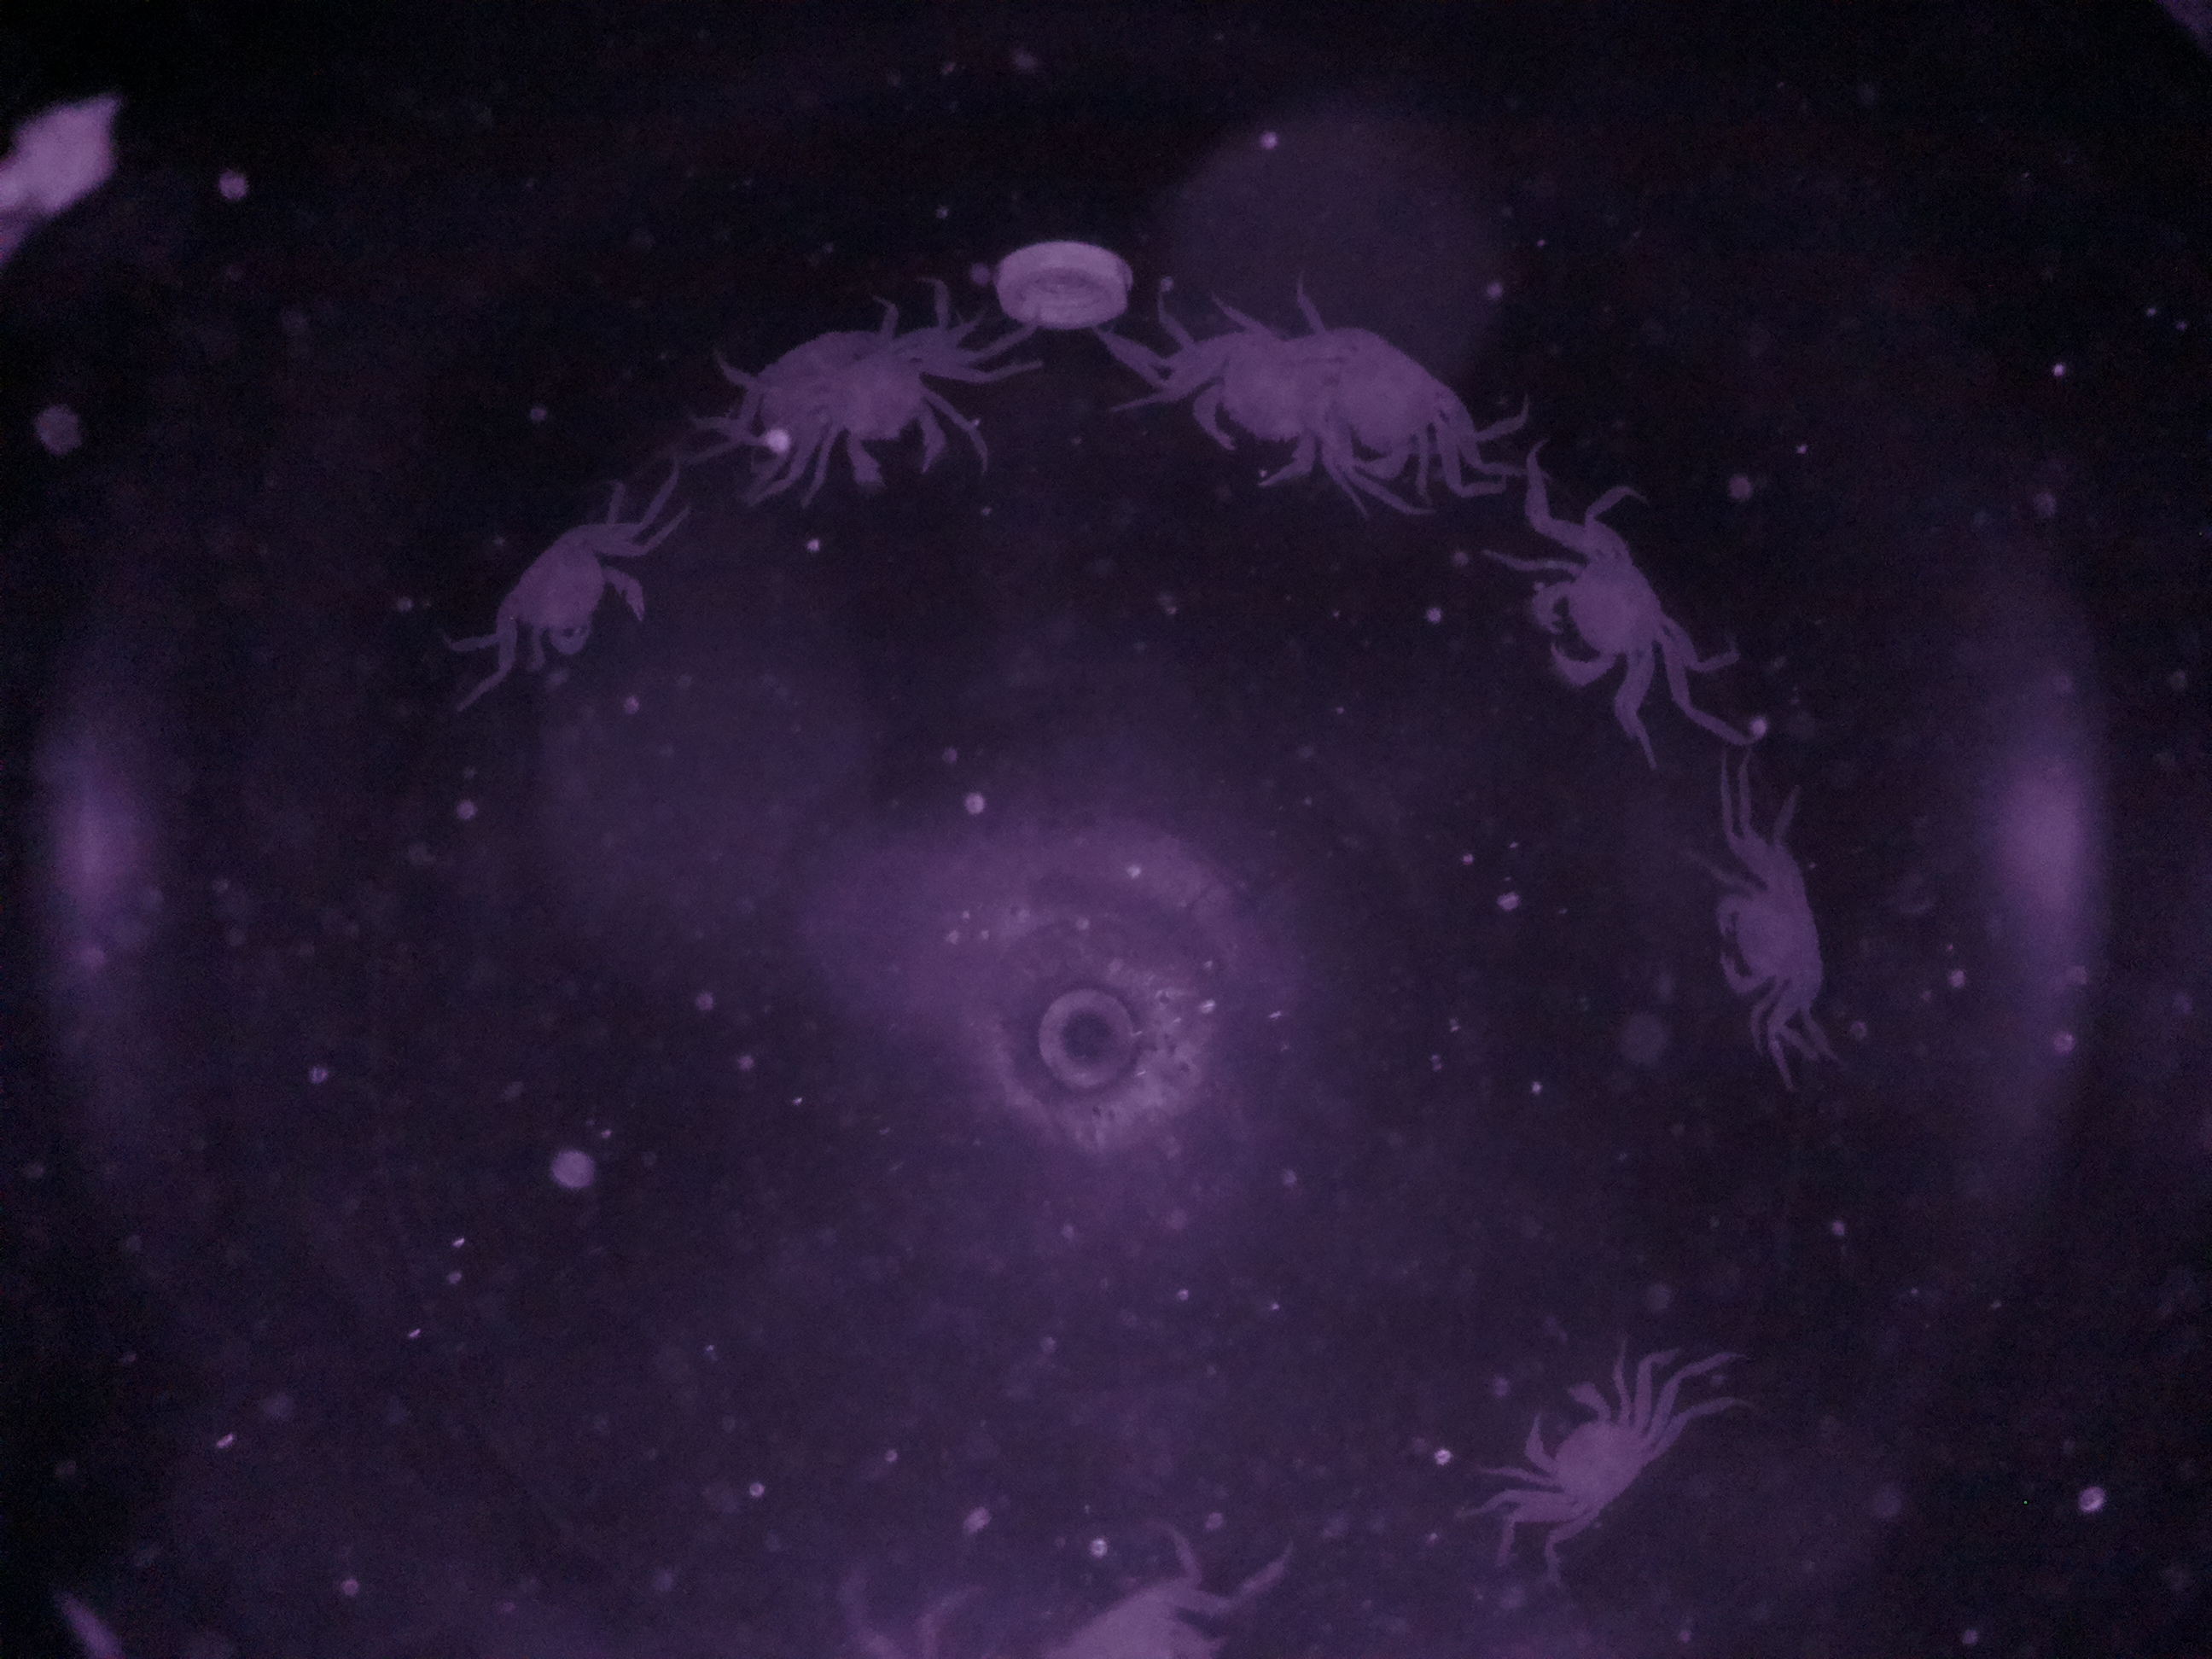Crab: (1683, 840, 1855, 1070), (1503, 528, 1716, 708), (472, 509, 664, 688), (1501, 1354, 1672, 1540)
